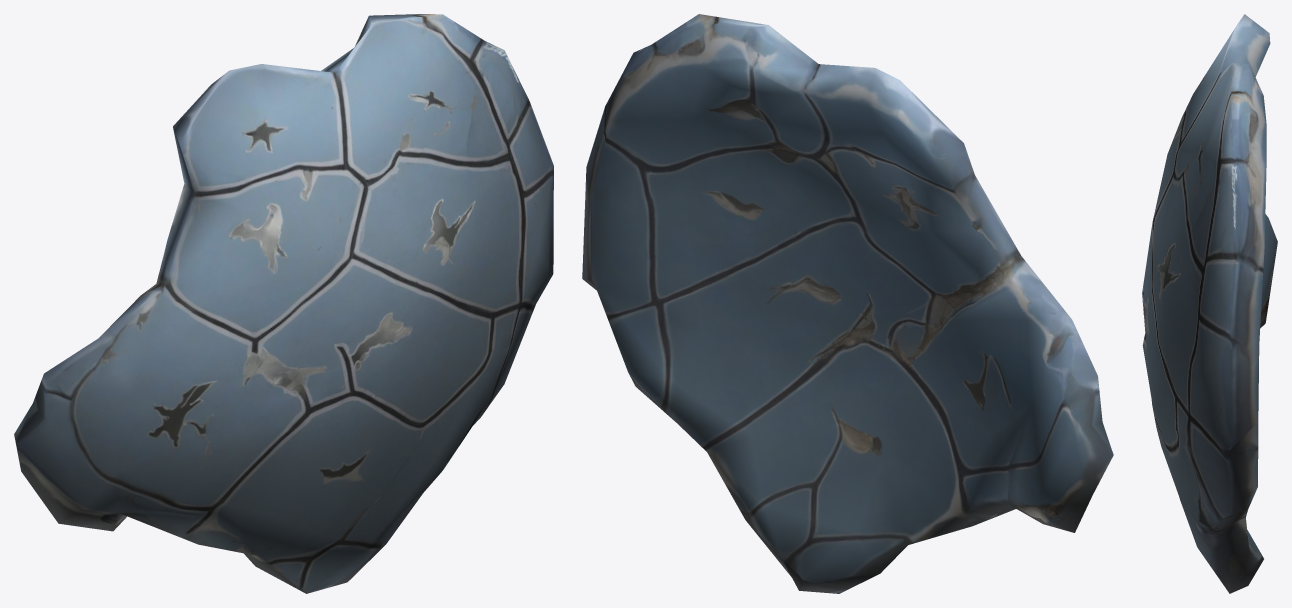
File: a_thousand_year_old_t_0727020717_texture.fbx
3 renders of one model, left to right at view 1: azimuth 30°, elevation 25°; view 2: azimuth 150°, elevation 25°; view 3: azimuth 270°, elevation 25°, orthographic.
Visible parts, largest first — view 1: Mesh1; view 2: Mesh1; view 3: Mesh1.
Part boxes in pixels (<box>): Mesh1: <box>14,14,553,593</box>; Mesh1: <box>582,14,1113,593</box>; Mesh1: <box>1142,14,1277,593</box>.
Bounding box in the file's own units: 197 × 196 × 44.12.
1 material, 1 textured.
